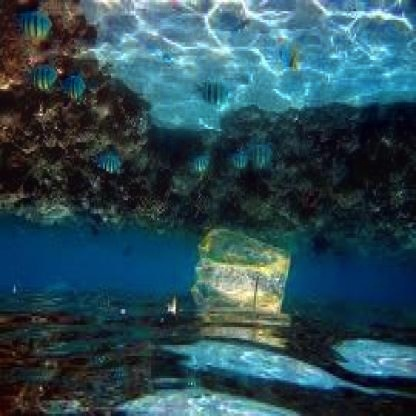pbag: (188, 225, 293, 316)
